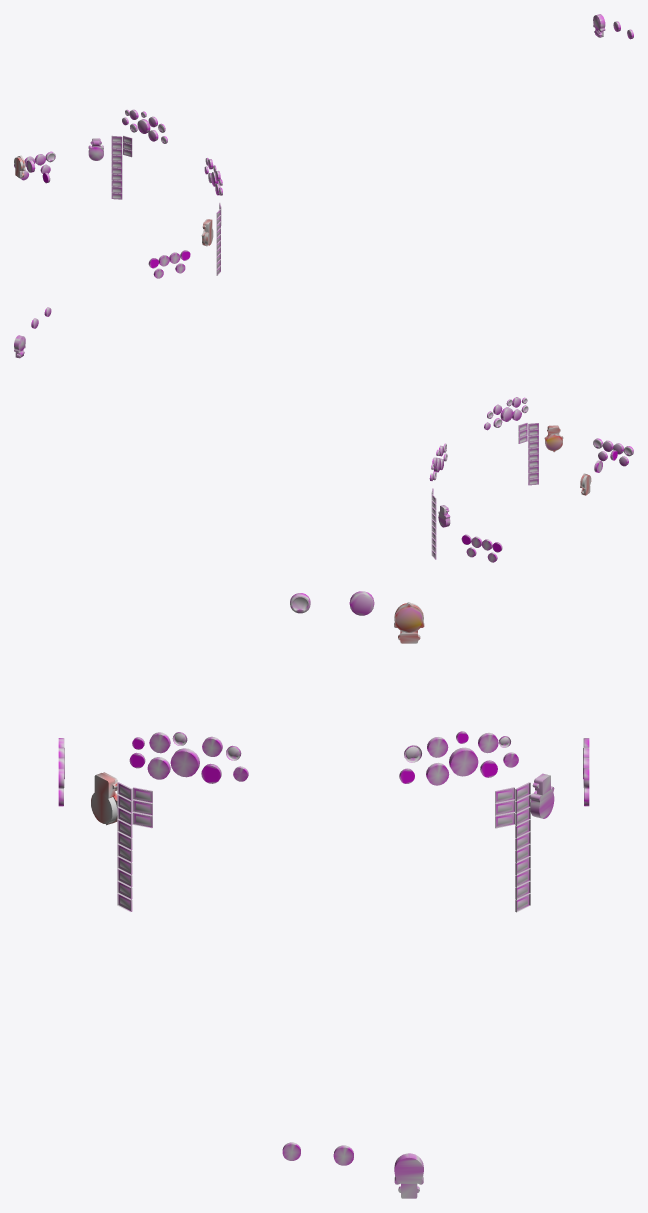
Rendered from SM_Engine_Altimetres-A.fbx.
3 views of the same model, one above another, from view 1: azimuth 30°, elevation 25°; view 2: azimuth 150°, elevation 25°; view 3: azimuth 270°, elevation 25° (orthographic). The views are drawn at different scales.
Visible parts, largest first — view 1: SM_Engine_Altimetres-A_LOD0; view 2: SM_Engine_Altimetres-A_LOD0; view 3: SM_Engine_Altimetres-A_LOD0.
Boxes of the visible parts, bbox=[...] form: SM_Engine_Altimetres-A_LOD0: bbox=[14, 14, 633, 278]; SM_Engine_Altimetres-A_LOD0: bbox=[14, 307, 633, 562]; SM_Engine_Altimetres-A_LOD0: bbox=[58, 591, 589, 1198].
Size of the model in its own units: 1463 by 589 by 243.
